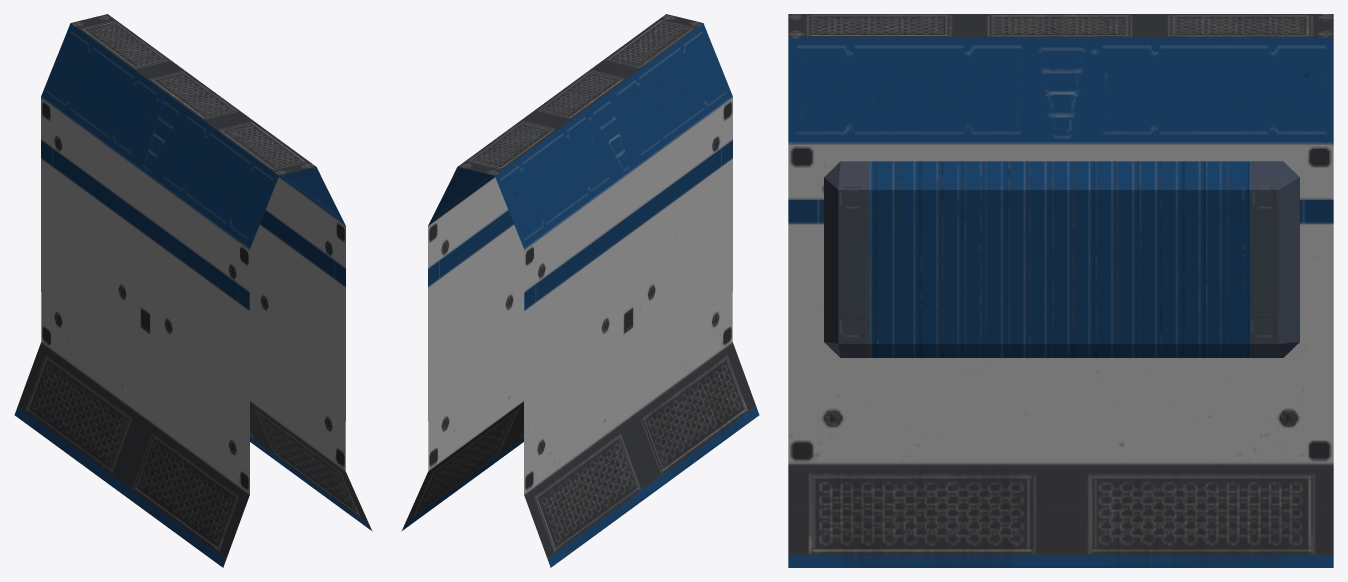
File: Wall_5_Sci_Fi.fbx
3 views of the same model, side by side, from view 1: azimuth 30°, elevation 25°; view 2: azimuth 150°, elevation 25°; view 3: azimuth 270°, elevation 25° (orthographic). The views are drawn at different scales.
Visible parts, largest first — view 1: Sci_Fi_wall_5; view 2: Sci_Fi_wall_5; view 3: Sci_Fi_wall_5.
Boxes of the visible parts, x1,y1,x2,y2 form: Sci_Fi_wall_5: (14,14,372,567); Sci_Fi_wall_5: (401,14,759,567); Sci_Fi_wall_5: (788,14,1333,567).
Size of the model in its own units: 163 by 395 by 395.
